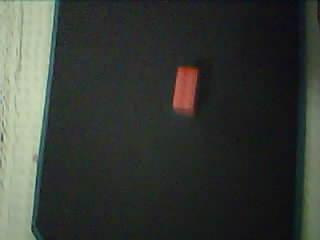lego: (171, 62, 199, 116)
